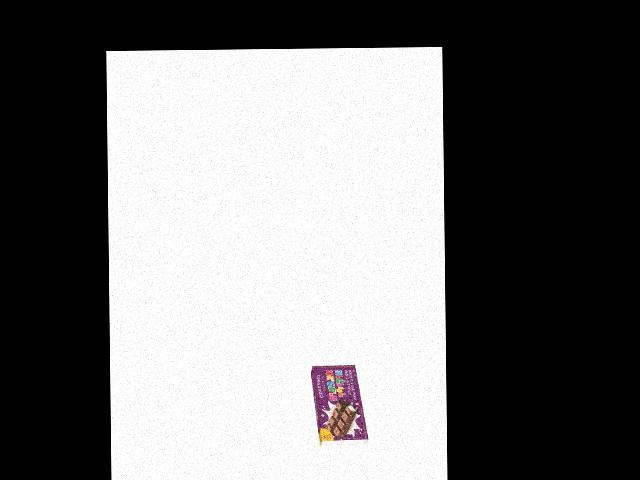chocolate: (310, 359, 364, 447)
